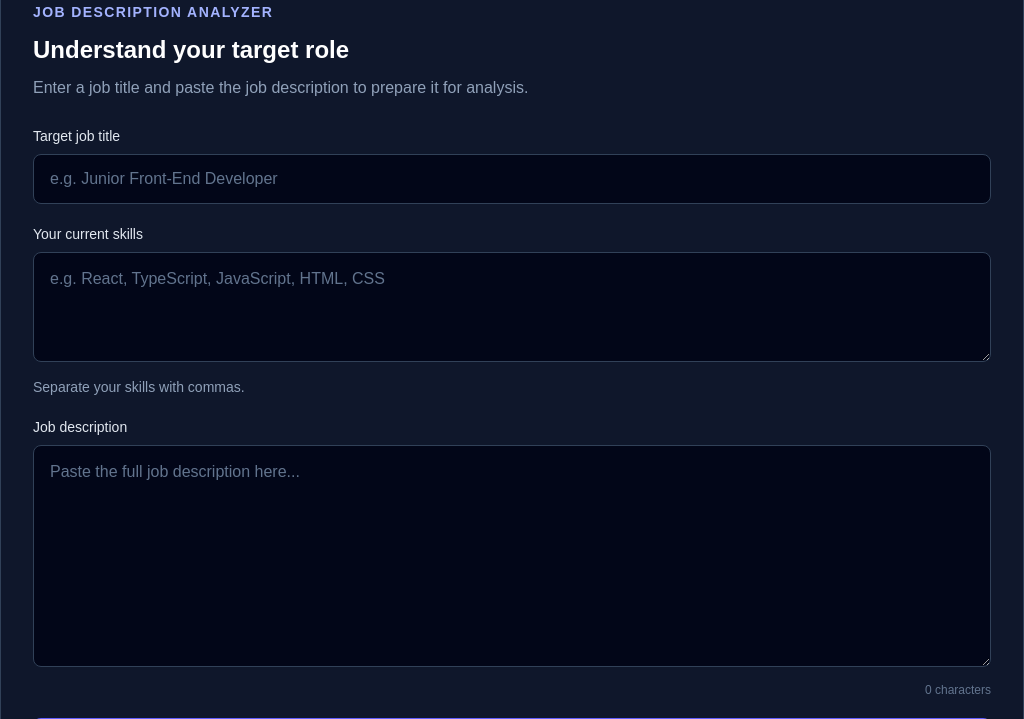
Test case: JobDescriptionAnalyzer › shows the correct skill match percentage and skill gaps
In the field labelled "Target job title": (512, 179) [33, 154, 991, 204], type "Junior Front-End Developer"
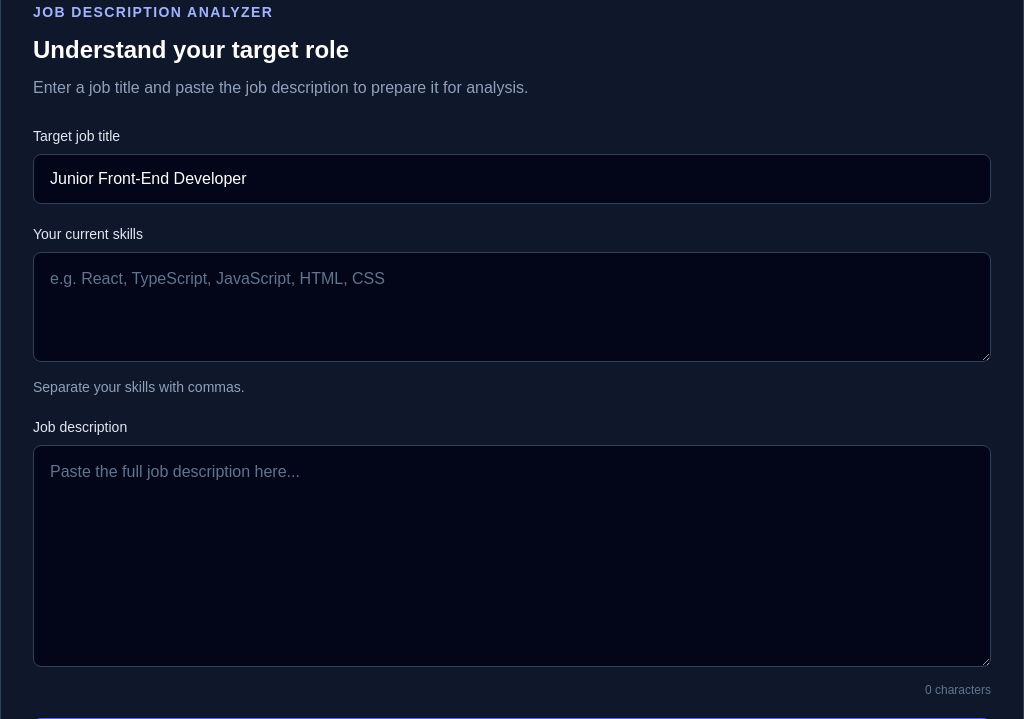
In the text box labelled "Your current skills": (512, 307) [33, 252, 991, 362], type "React, JavaScript, HTML, CSS"
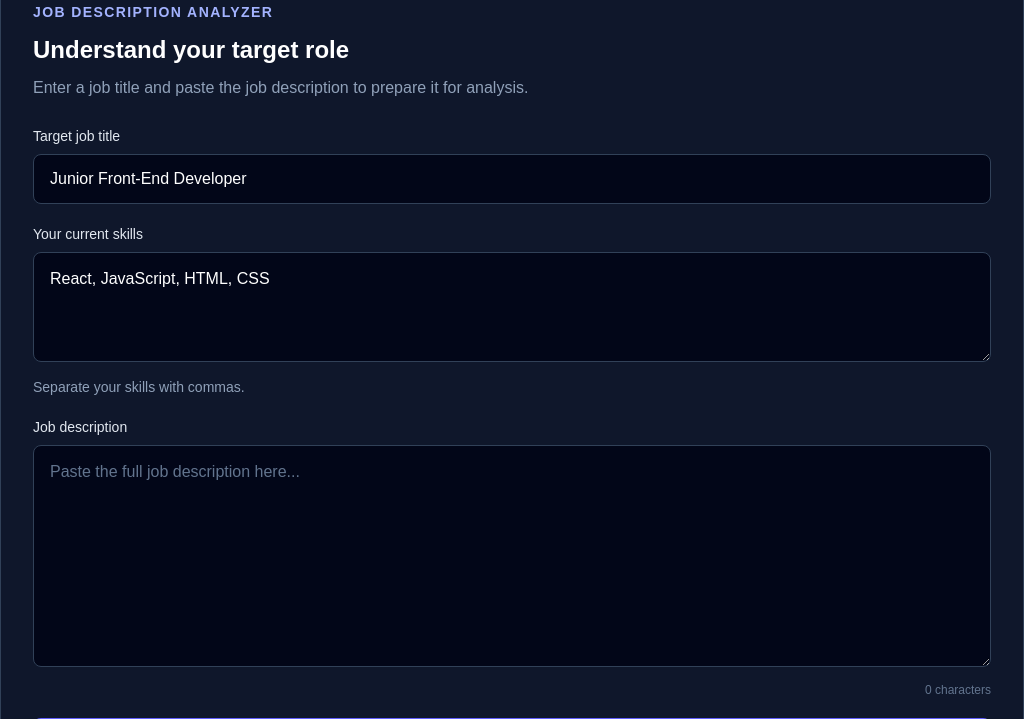
In the text box labelled "Job description": (512, 556) [33, 445, 991, 667], type "We need React, JavaScript, HTML, CSS, TypeScript, and Next.js experience to build modern web applications."
(page scrolled)
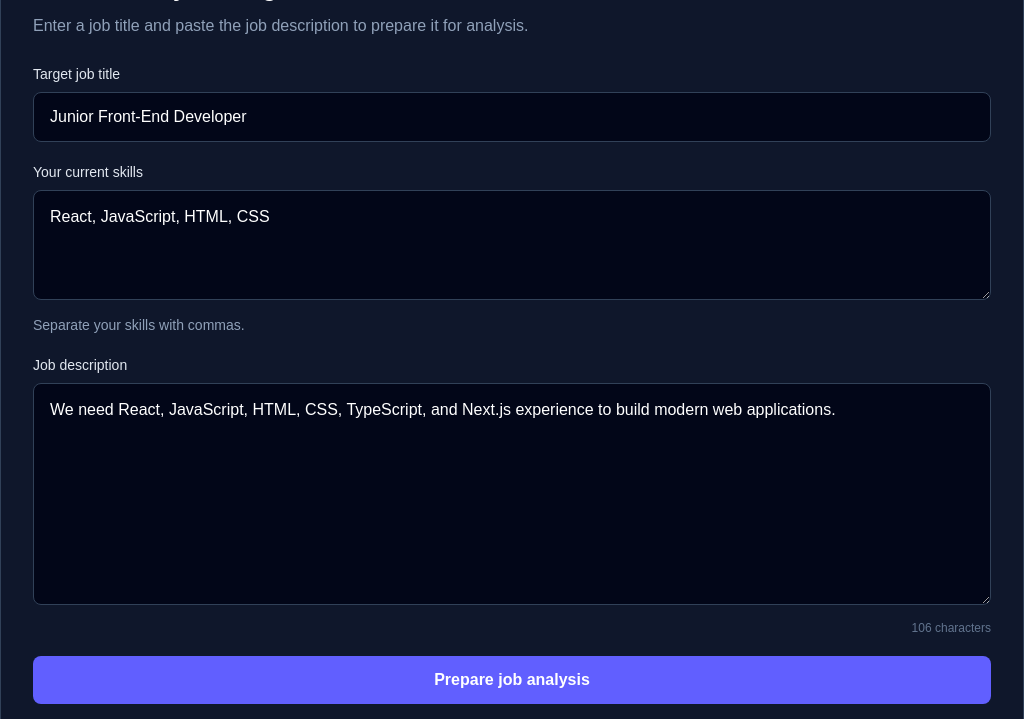
Click the button "Prepare job analysis": (512, 680) [33, 656, 991, 704]
(page scrolled)
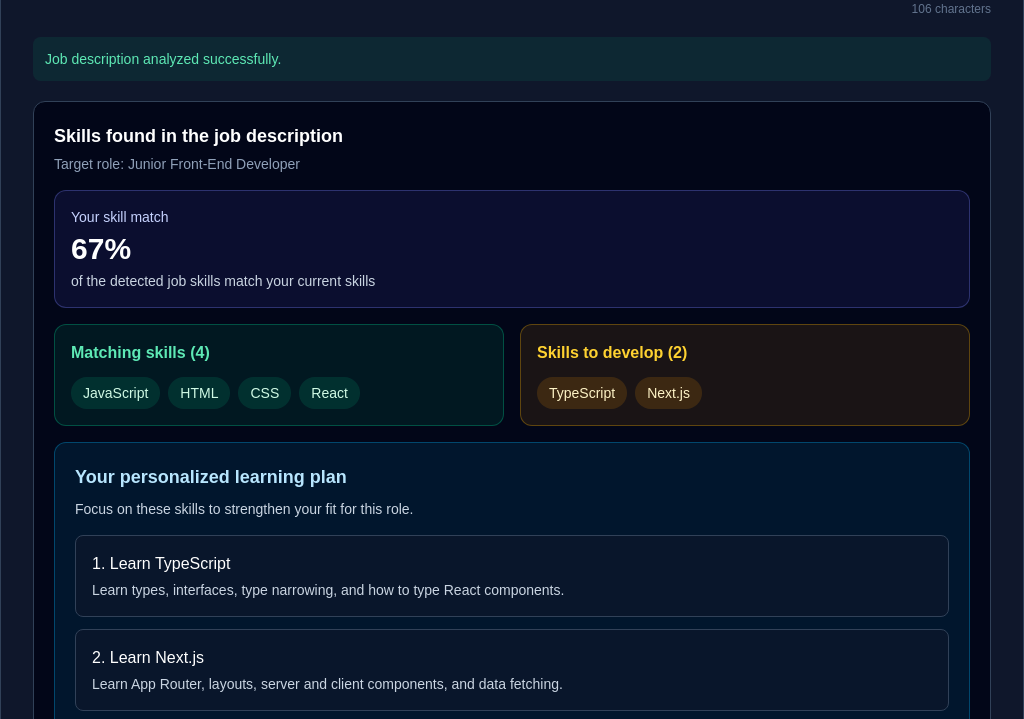
Check: the text "67%" is shown, box [71, 232, 131, 265]
Check: the heading "Matching skills (4)" is shown, box [71, 344, 210, 361]
Check: the heading "Skills to develop (2)" is shown, box [537, 344, 687, 361]
